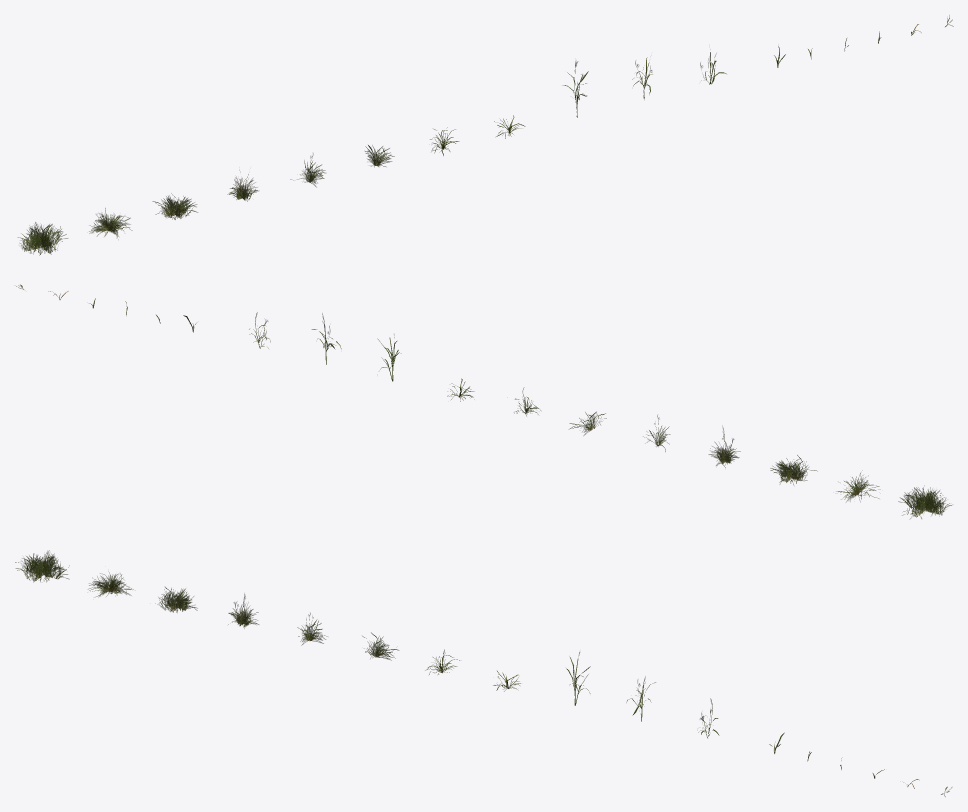
The model's file is grass.glb.
The picture shows the model from 3 angles, top to bottom: view 1: azimuth 30°, elevation 25°; view 2: azimuth 150°, elevation 25°; view 3: azimuth 330°, elevation 25°; orthographic projection.
Visible parts, largest first — view 1: grass_medium_01_mid_c_LOD2; view 2: grass_medium_01_mid_c_LOD2; view 3: grass_medium_01_mid_c_LOD2.
Part boxes in pixels (x1,y1,x2,y2): grass_medium_01_mid_c_LOD2: [17, 15, 953, 255]; grass_medium_01_mid_c_LOD2: [16, 284, 951, 519]; grass_medium_01_mid_c_LOD2: [15, 550, 952, 796].
Size of the model in its own units: 5.62 by 0.3407 by 0.327.
1 material, 1 textured.
